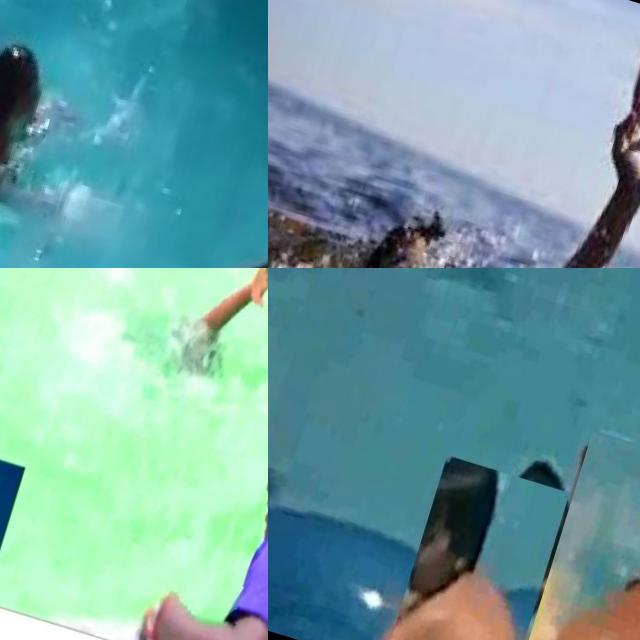drowning: (268, 0, 640, 268), (0, 0, 98, 268), (126, 268, 268, 427), (268, 318, 311, 536)
out of water: (148, 315, 268, 640)
swimming: (381, 455, 569, 640), (520, 428, 640, 640)
